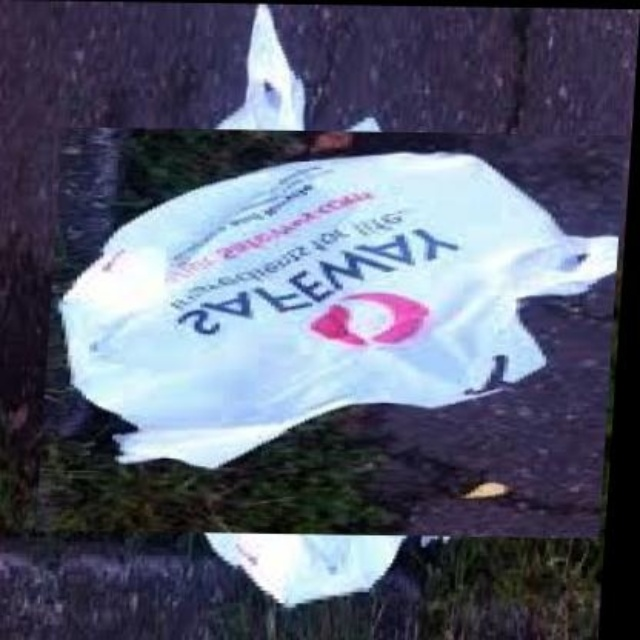trash: (62, 152, 615, 466)
